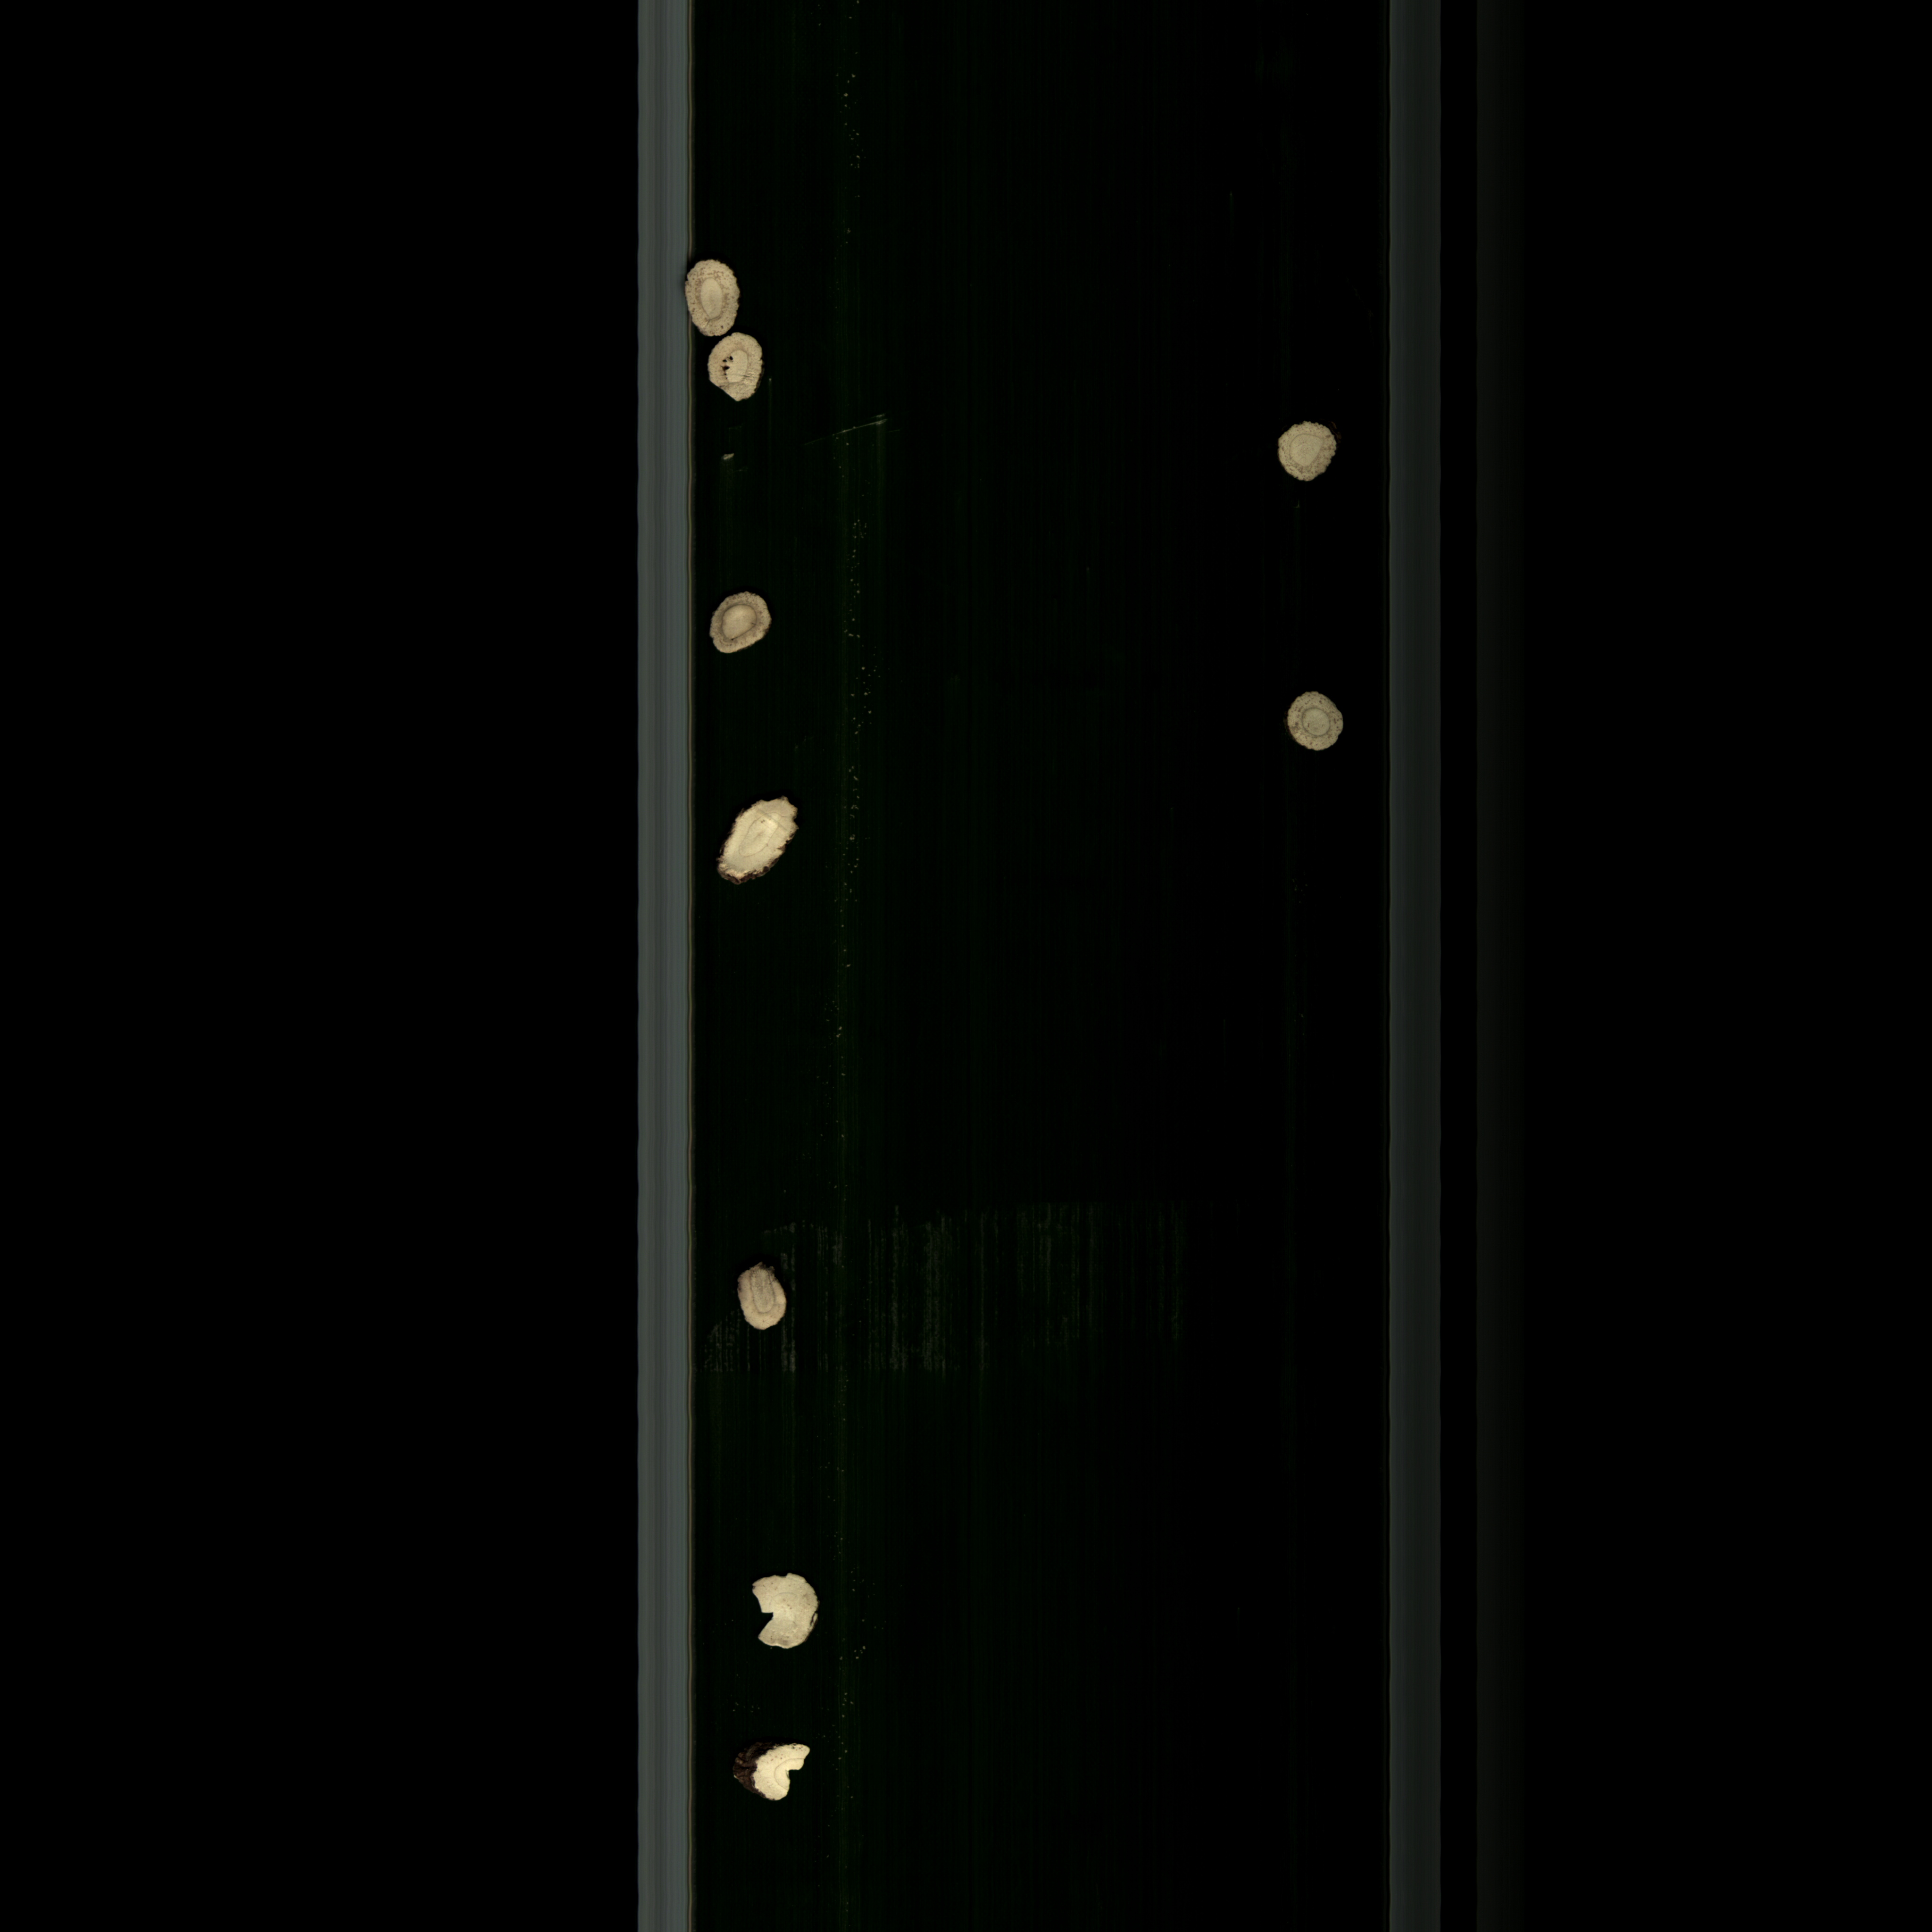debris: (720, 1730, 823, 1808), (745, 1564, 826, 1658), (729, 1258, 803, 1338)
distortion: (711, 793, 809, 893)
hole: (702, 334, 770, 409)
moldy: (701, 587, 787, 663), (1277, 686, 1352, 755)
